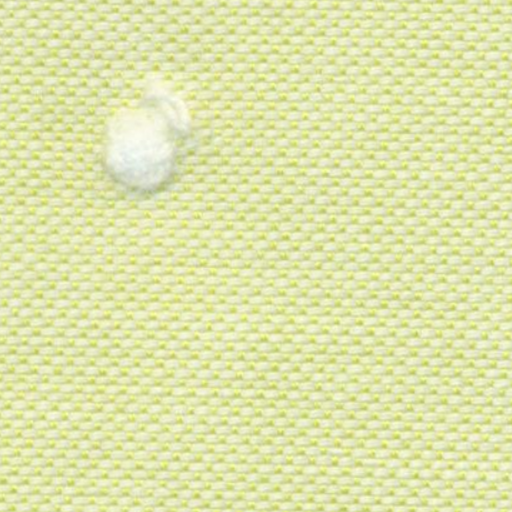MianQiu: (80, 70, 224, 216)
